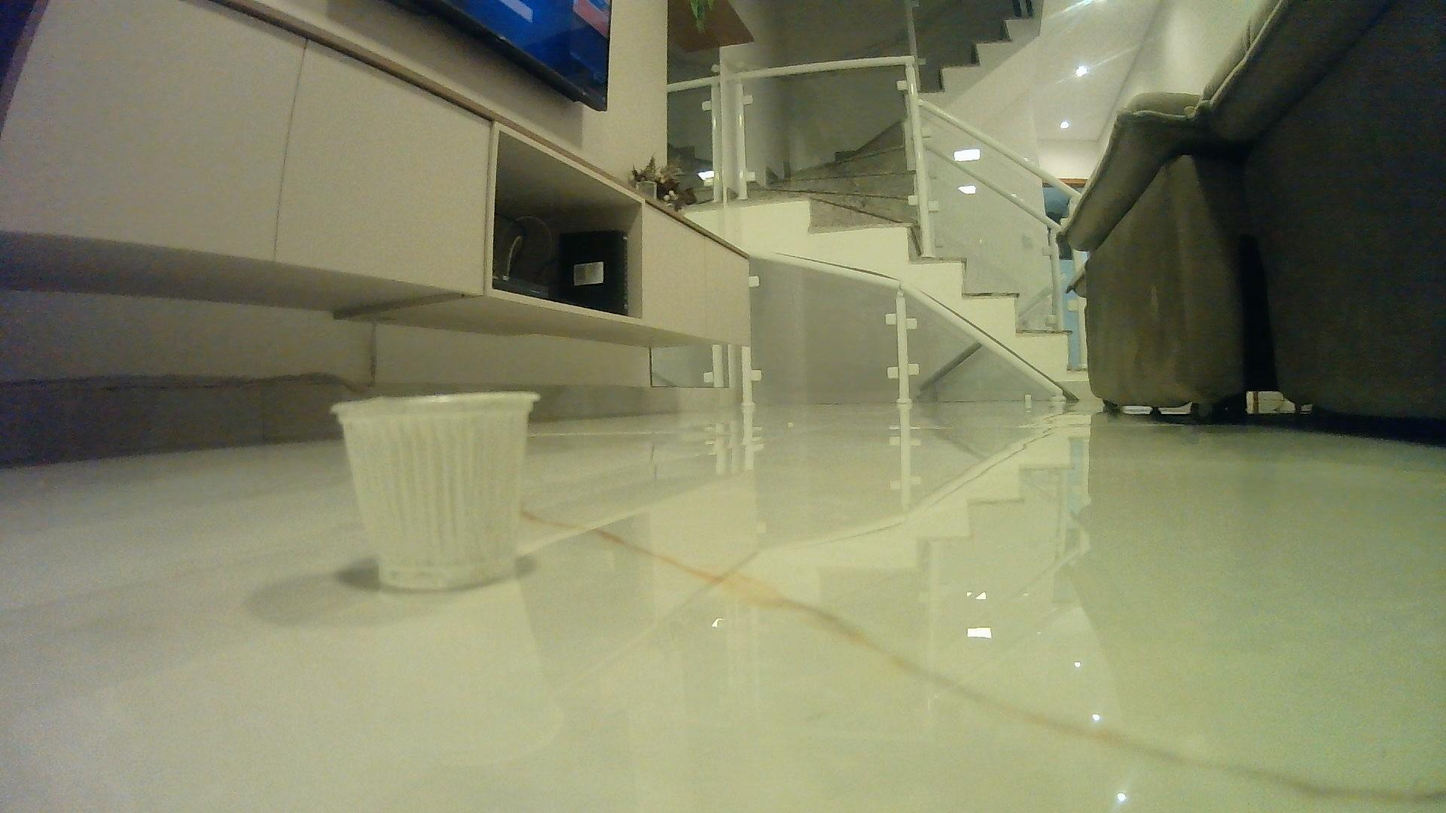planta: (327, 396, 553, 596)
